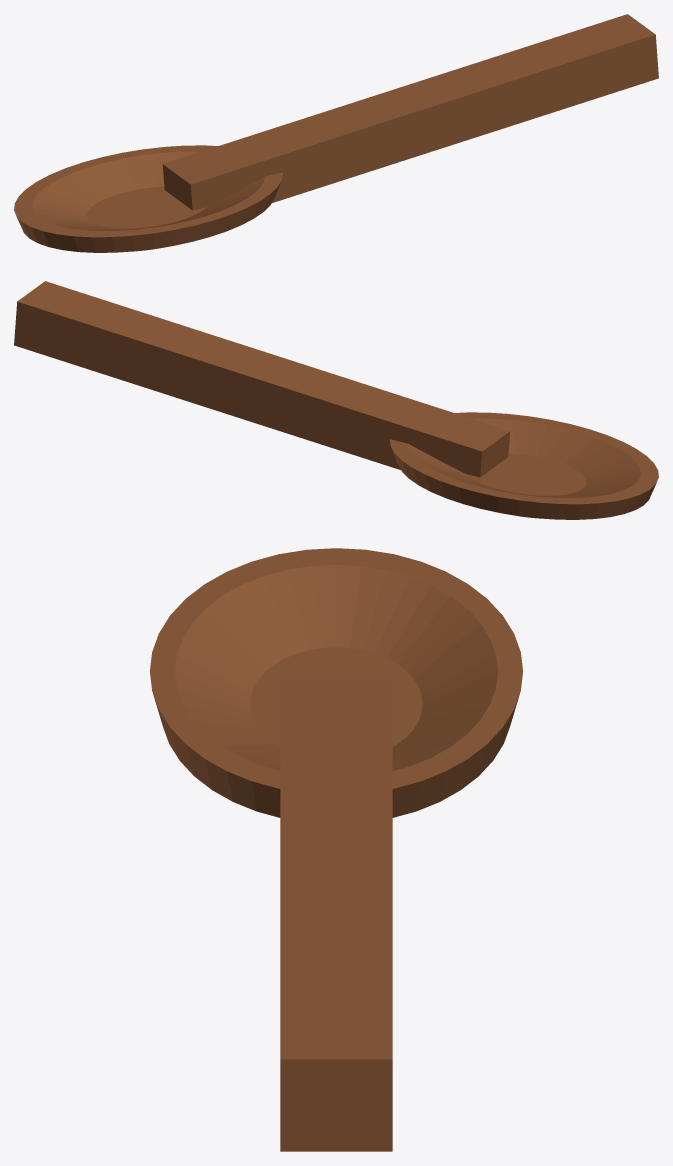
The model's file is spoon.glb.
3 renders of one model, top to bottom at view 1: azimuth 30°, elevation 25°; view 2: azimuth 150°, elevation 25°; view 3: azimuth 270°, elevation 25°, orthographic. The views are drawn at different scales.
Parts seen in each view (by area): view 1: Wooden_Spoon_Handle, Wooden_Spoon_Cup; view 2: Wooden_Spoon_Handle, Wooden_Spoon_Cup; view 3: Wooden_Spoon_Cup, Wooden_Spoon_Handle.
Part boxes in pixels (bbox=[...]): Wooden_Spoon_Handle: bbox=[162, 14, 658, 210]; Wooden_Spoon_Cup: bbox=[14, 145, 282, 252]; Wooden_Spoon_Handle: bbox=[14, 281, 510, 477]; Wooden_Spoon_Cup: bbox=[390, 412, 658, 519]; Wooden_Spoon_Cup: bbox=[150, 548, 522, 817]; Wooden_Spoon_Handle: bbox=[280, 678, 392, 1151].
Bounding box in the file's own units: 0.3205 × 0.041 × 0.0832.
